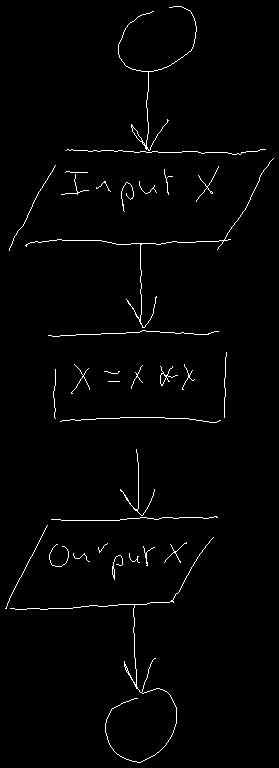arrow: (131, 72, 168, 150), (124, 604, 155, 692), (126, 243, 156, 327), (120, 449, 154, 515)
connection: (105, 688, 176, 762), (118, 6, 196, 71)
data: (9, 149, 273, 250), (5, 516, 217, 609)
process: (48, 330, 226, 422)
text: (61, 166, 218, 211), (49, 542, 186, 579), (71, 364, 194, 393)
